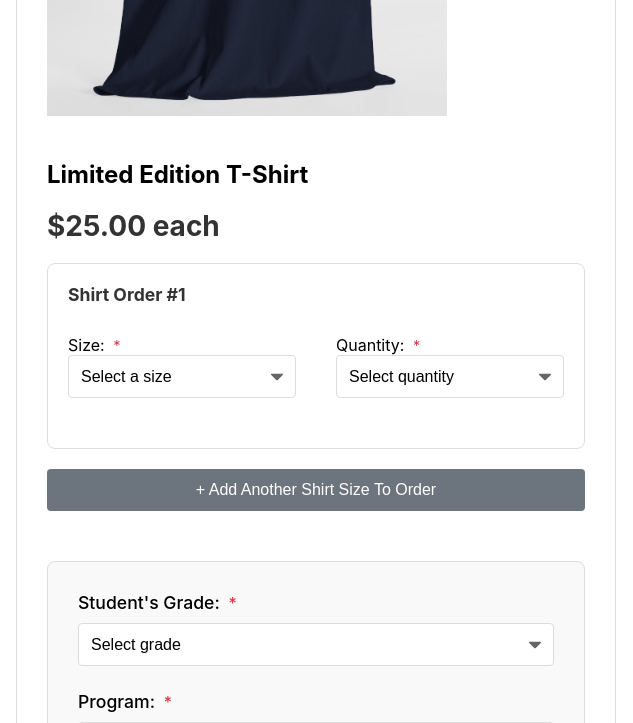
HomeView — submit button disabled state › is NOT disabled and shows price when size and quantity are selected
The width and height of the screenshot is (633, 723).
(page scrolled)
Select size M and quantity 1 for the first order
Step 1. Select "M" in the dropdown with id "size-0" → (182, 377), box [68, 355, 296, 398]
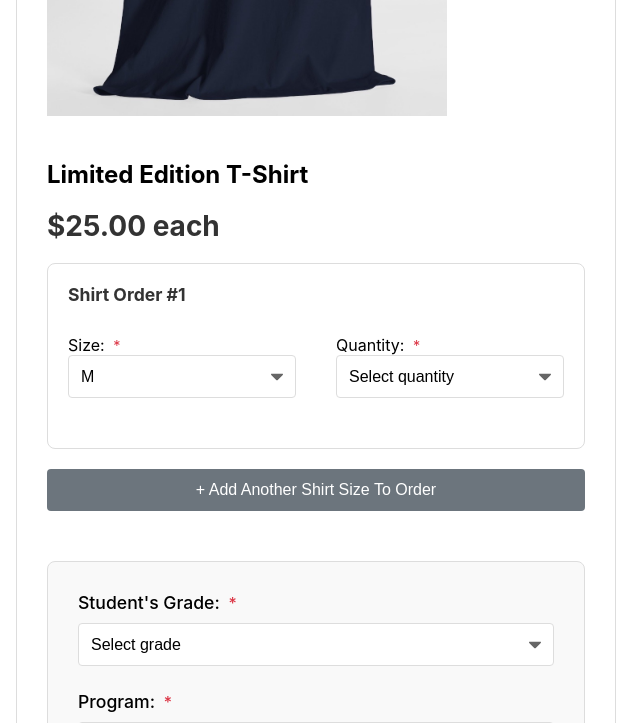
Step 2. Select "1" in the dropdown labelled "Quantity: *" → (450, 377), box [336, 355, 564, 398]
(page scrolled)
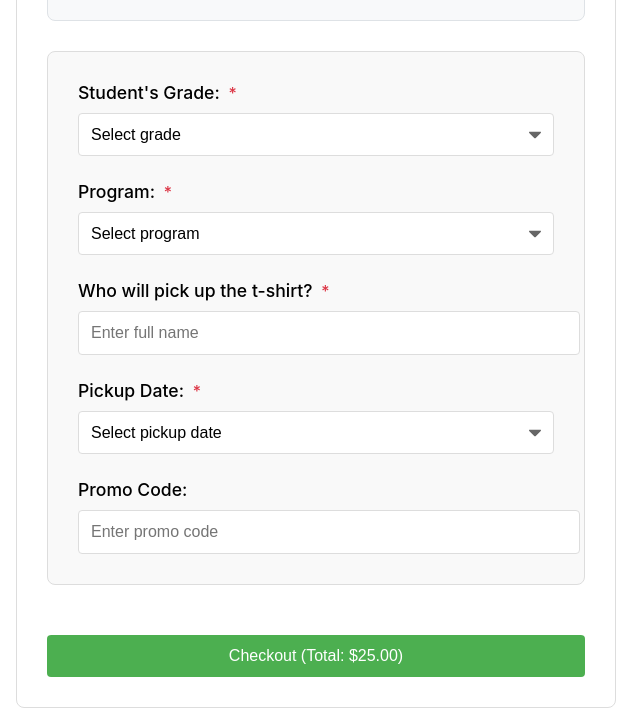
Now the submit button is enabled, box [47, 635, 585, 677]
Now the submit button shows "$25.00", box [47, 635, 585, 677]
